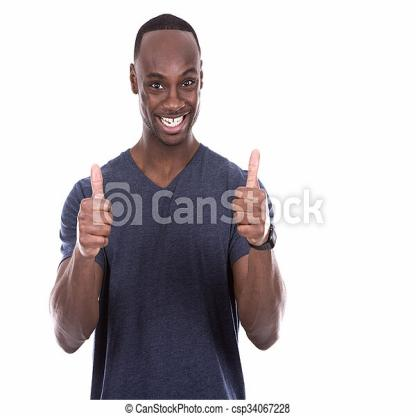Thumbs-Up: (230, 143, 266, 245), (74, 165, 116, 251)
